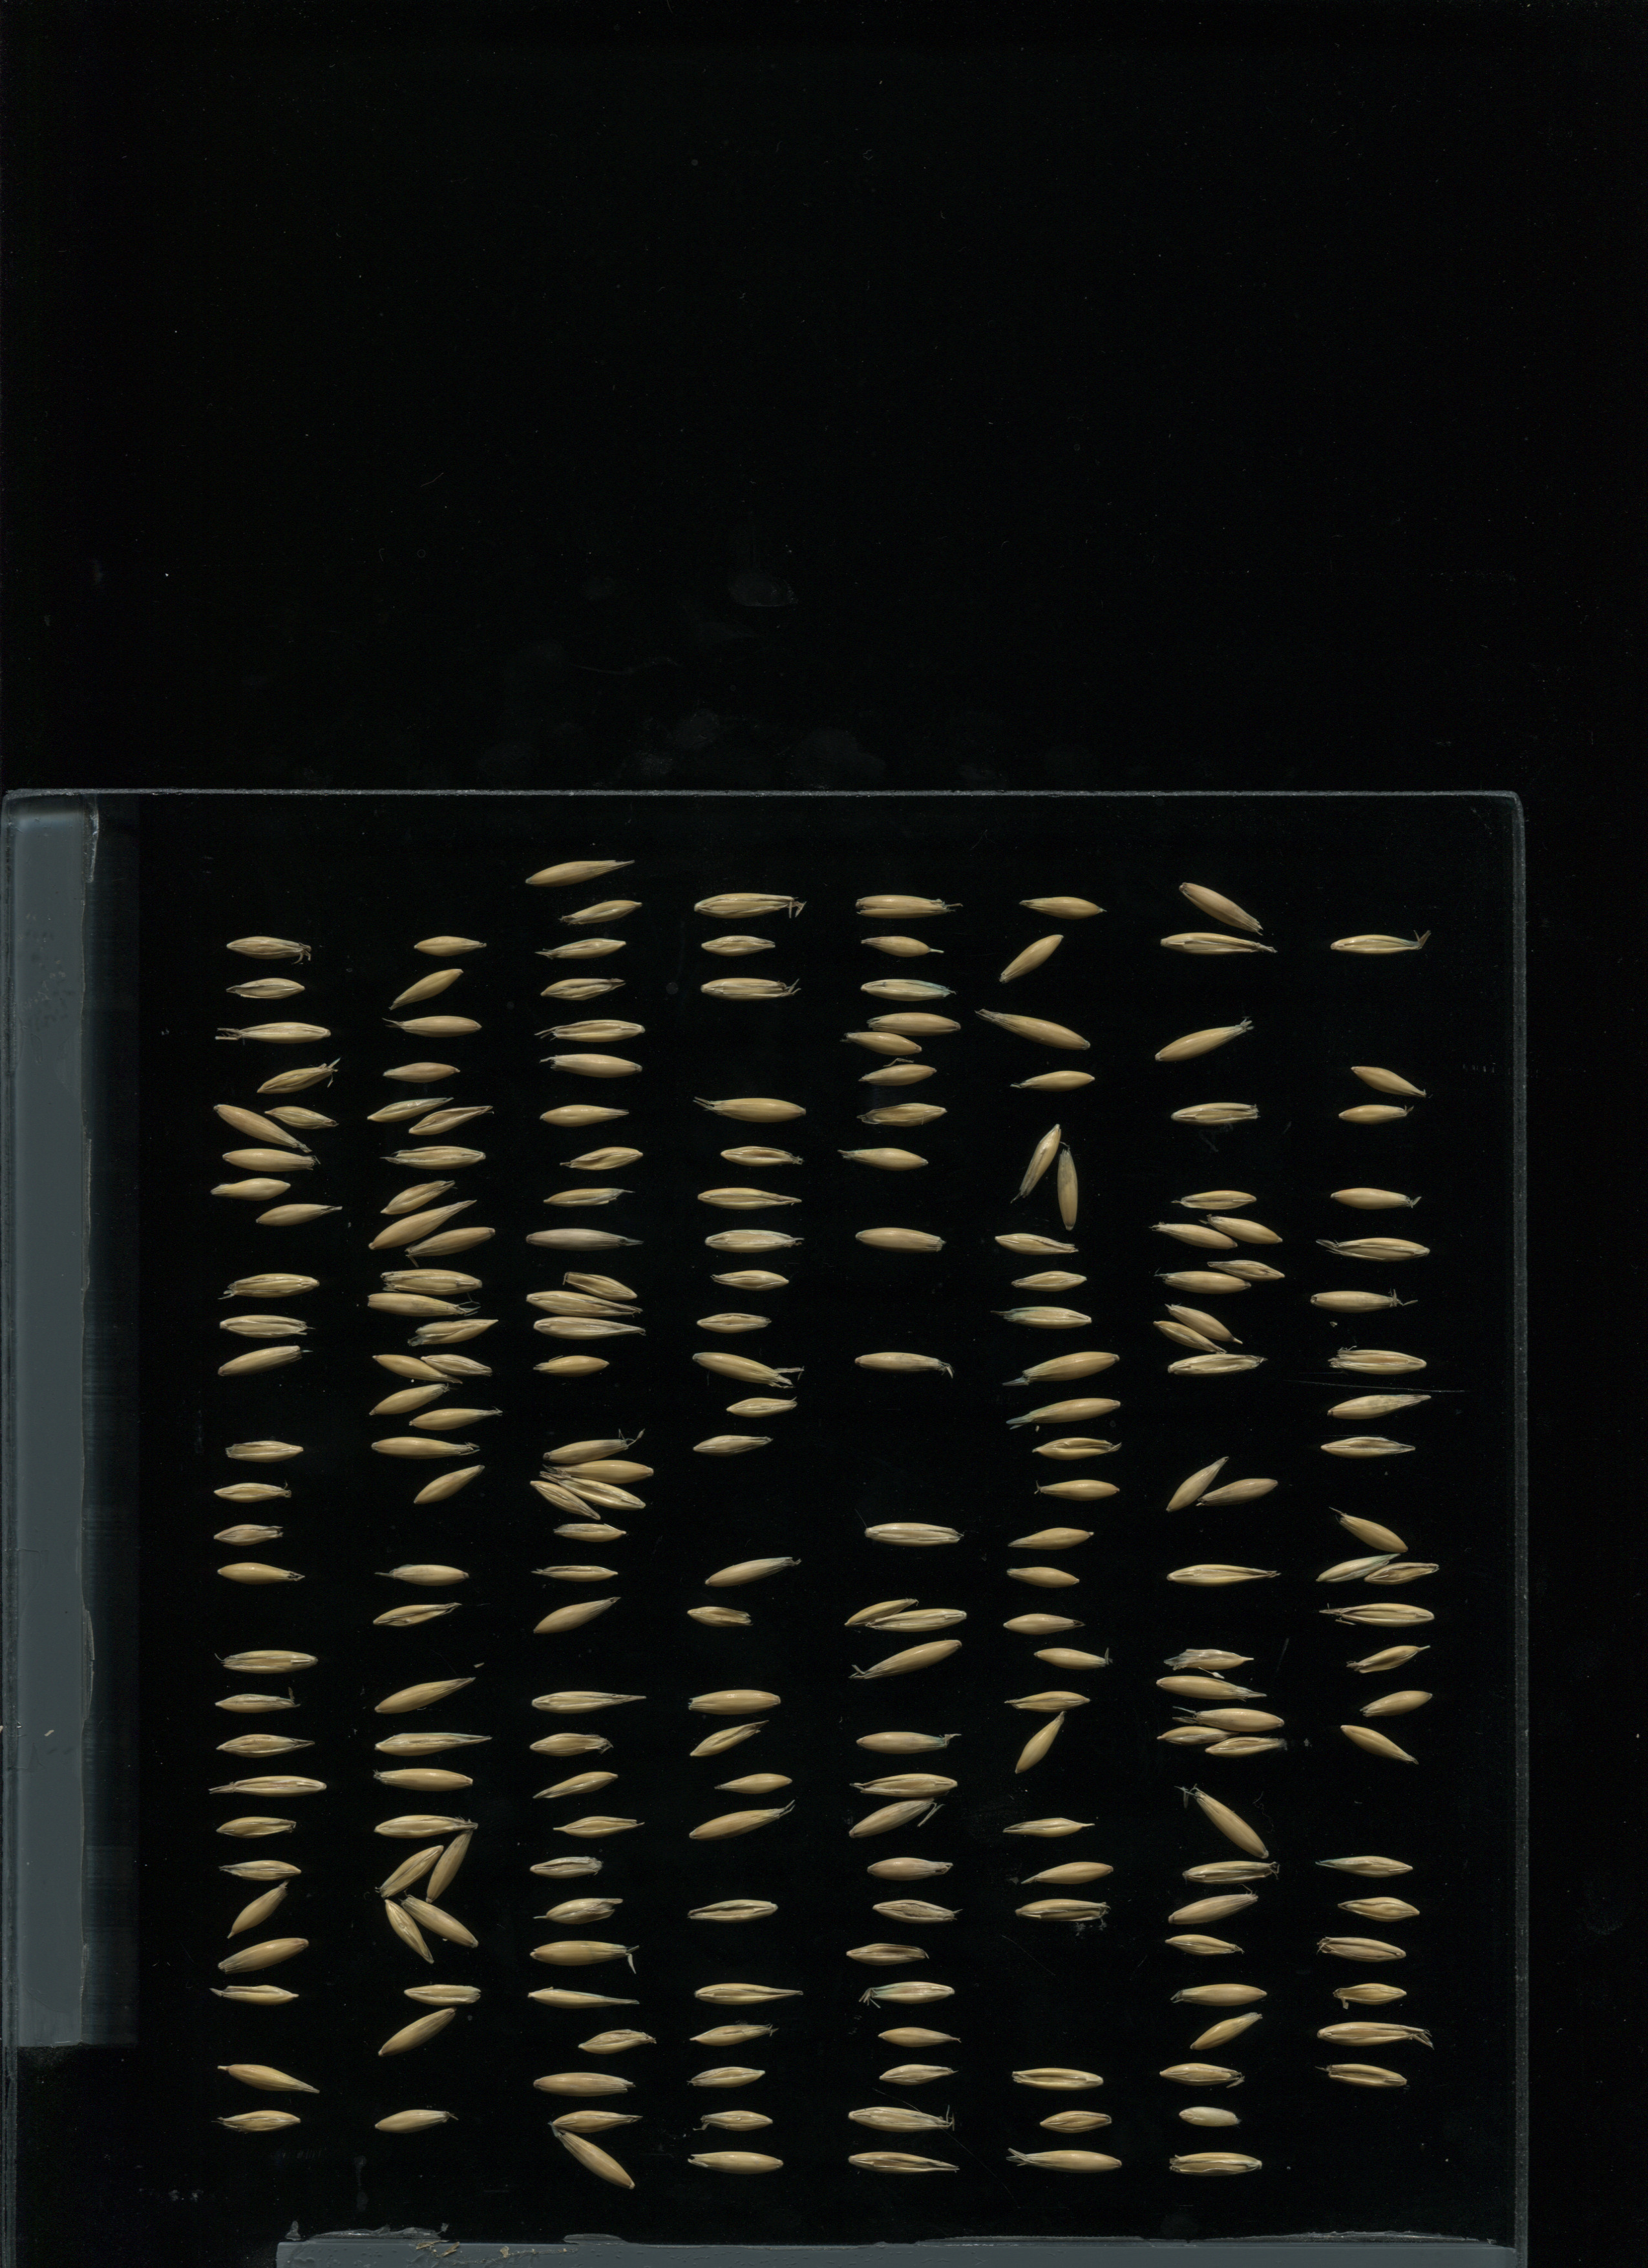NakedGrain: (1174, 2099, 1248, 2131)
WholeGrain: (544, 2120, 641, 2191), (364, 1196, 479, 1254), (1185, 1784, 1269, 1859), (847, 1636, 965, 1685), (975, 1002, 1093, 1049), (206, 1101, 310, 1152), (1315, 1590, 1444, 1631), (1174, 879, 1266, 935), (539, 1467, 648, 1513), (1150, 1018, 1257, 1064), (1000, 2141, 1129, 2178), (370, 1673, 477, 1717), (373, 2002, 460, 2057), (1160, 1451, 1232, 1516), (1002, 1395, 1129, 1432), (843, 1793, 945, 1838), (683, 1800, 798, 1840), (213, 1930, 313, 1976), (690, 1349, 796, 1391), (222, 1877, 292, 1940), (1009, 1705, 1070, 1775), (401, 1895, 481, 1949), (373, 1840, 447, 1898), (1007, 1351, 1122, 1388), (856, 1516, 970, 1553), (695, 1090, 815, 1125), (1312, 2014, 1437, 2048), (1007, 1893, 1120, 1930), (523, 854, 639, 889), (842, 2145, 963, 2178), (528, 1595, 623, 1638), (382, 1893, 435, 1969), (1312, 1845, 1419, 1882), (423, 1828, 474, 1905), (1331, 1722, 1421, 1766), (379, 1173, 461, 1220), (523, 1289, 646, 1321), (701, 1551, 806, 1588), (1164, 1889, 1264, 1928), (1160, 1558, 1282, 1590), (525, 1683, 653, 1713), (1331, 1507, 1409, 1557), (1183, 2007, 1266, 2053), (1310, 2057, 1417, 2092), (1164, 2146, 1271, 2182), (1315, 1932, 1417, 1969), (1002, 2062, 1115, 2095), (387, 963, 467, 1011), (1174, 1701, 1292, 1733), (688, 891, 812, 921), (405, 1101, 495, 1141), (998, 932, 1067, 984), (1018, 1120, 1063, 1199), (1324, 1393, 1438, 1425), (408, 1463, 488, 1509), (215, 2062, 322, 2095), (1153, 932, 1280, 960), (1321, 1233, 1433, 1264), (1150, 1215, 1241, 1254), (1166, 1300, 1243, 1345), (525, 1768, 625, 1803), (528, 1893, 629, 1928), (687, 1717, 769, 1759), (1155, 1671, 1271, 1701), (1324, 1344, 1433, 1375), (849, 1220, 951, 1254), (539, 1433, 641, 1467), (364, 1597, 467, 1631), (998, 1810, 1100, 1844), (215, 1340, 312, 1375), (1016, 1854, 1123, 1886), (690, 1183, 810, 1211), (845, 1770, 965, 1798), (526, 1939, 639, 1969), (843, 2106, 963, 2134), (220, 1268, 320, 1301), (1204, 1210, 1291, 1248), (849, 891, 967, 919), (525, 1984, 643, 2013), (1342, 1062, 1431, 1099), (408, 1315, 502, 1351), (523, 1479, 600, 1521), (377, 1266, 486, 1296), (215, 1646, 324, 1676), (370, 1764, 479, 1794), (560, 1270, 648, 1307), (1026, 1641, 1118, 1676), (530, 2069, 644, 2097), (530, 1315, 651, 1342), (364, 1289, 477, 1317), (864, 1604, 970, 1634), (1347, 1639, 1437, 1675), (870, 1891, 960, 1926), (255, 1060, 340, 1097), (218, 1020, 336, 1046), (697, 974, 801, 1004), (1354, 1683, 1442, 1719), (370, 1381, 452, 1417), (1164, 1349, 1266, 1379), (368, 1351, 454, 1386), (1000, 1602, 1086, 1638), (681, 2148, 789, 2176), (852, 1347, 953, 1377), (1148, 1321, 1229, 1358), (370, 1733, 491, 1757), (1324, 930, 1430, 958), (1201, 1472, 1285, 1507), (683, 2021, 789, 2050), (1028, 2102, 1122, 2134), (688, 1981, 808, 2006), (518, 1229, 646, 1252), (206, 1775, 335, 1798), (541, 1016, 651, 1042), (842, 1592, 921, 1629), (1315, 1433, 1419, 1462), (211, 1731, 315, 1759), (857, 1979, 961, 2007), (262, 1101, 345, 1136), (1167, 1099, 1264, 1129), (549, 2106, 646, 2136), (539, 1051, 648, 1078), (1169, 1979, 1271, 2007), (222, 932, 317, 961), (1157, 2058, 1247, 2090), (1159, 1643, 1266, 1669), (852, 1727, 960, 1754), (835, 1143, 935, 1171), (1002, 1558, 1086, 1592), (685, 1685, 785, 1713), (206, 1689, 306, 1717), (210, 1810, 303, 1840), (364, 1093, 452, 1125), (1326, 1977, 1414, 2009), (1331, 1893, 1430, 1921), (1146, 1720, 1245, 1749), (701, 1227, 805, 1254), (215, 1314, 319, 1340), (208, 1560, 312, 1587), (1180, 1858, 1284, 1884), (546, 1814, 650, 1840), (373, 1812, 484, 1837), (1002, 1523, 1099, 1551), (202, 1981, 305, 2007), (544, 1458, 653, 1483), (211, 2108, 306, 2136), (857, 976, 958, 1002), (864, 1011, 965, 1037), (998, 1303, 1099, 1329), (1315, 1551, 1403, 1581), (380, 1558, 474, 1587), (870, 2023, 968, 2050), (572, 2027, 658, 2057), (875, 2058, 961, 2088), (366, 1433, 479, 1456), (1308, 1287, 1405, 1314), (859, 1101, 949, 1129), (1201, 1733, 1291, 1761), (685, 1432, 780, 1458), (217, 1148, 326, 1171), (556, 900, 644, 928), (526, 1729, 614, 1757), (1162, 1932, 1250, 1960), (562, 1145, 644, 1175), (403, 1405, 504, 1430), (537, 935, 630, 961), (840, 1940, 933, 1967), (683, 1898, 782, 1923), (384, 1146, 489, 1169), (206, 1176, 298, 1203), (1326, 1185, 1423, 1210), (1014, 1067, 1099, 1095), (710, 1768, 794, 1796), (718, 1145, 808, 1171), (1032, 1476, 1122, 1502), (681, 2064, 771, 2090), (1016, 895, 1111, 919), (1150, 1271, 1261, 1292), (990, 1231, 1085, 1255), (1028, 1435, 1123, 1460), (857, 1062, 940, 1090), (1056, 1148, 1085, 1231), (842, 1032, 930, 1058), (215, 1858, 308, 1882), (400, 1983, 493, 2007), (1363, 1558, 1444, 1587), (549, 1520, 634, 1546), (863, 1858, 960, 1881), (368, 2108, 458, 2132), (708, 1266, 791, 1292), (695, 1308, 778, 1335), (535, 977, 630, 1000), (1169, 1187, 1264, 1210), (539, 1185, 634, 1208), (857, 933, 945, 958), (257, 1203, 345, 1227), (692, 2108, 780, 2132), (410, 933, 491, 960), (1206, 1255, 1287, 1282), (417, 1352, 493, 1381), (220, 1439, 306, 1463), (694, 933, 778, 958), (387, 1014, 484, 1035), (206, 1521, 289, 1546), (683, 1602, 755, 1631), (222, 977, 308, 1000), (206, 1483, 299, 1504), (523, 1564, 623, 1583), (528, 1852, 606, 1877), (377, 1060, 467, 1081), (1007, 1690, 1097, 1712), (537, 1104, 634, 1123), (533, 1354, 613, 1377), (1007, 1271, 1092, 1292), (722, 1396, 799, 1419), (1336, 1102, 1412, 1125)
